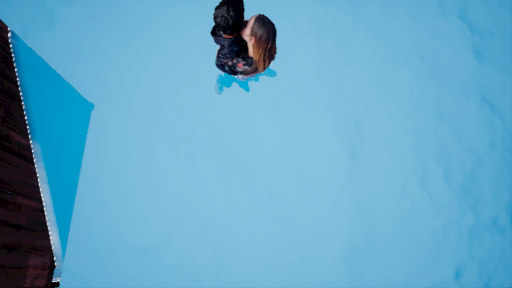person: (208, 1, 287, 105)
